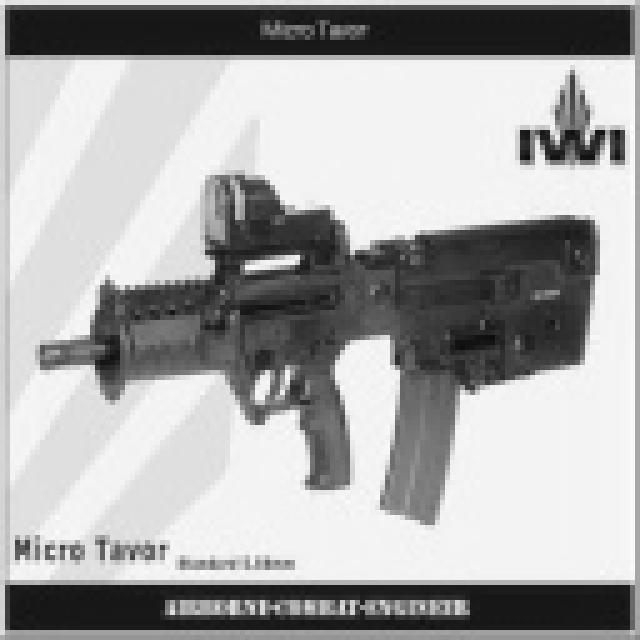Rifle: (0, 152, 613, 539)
